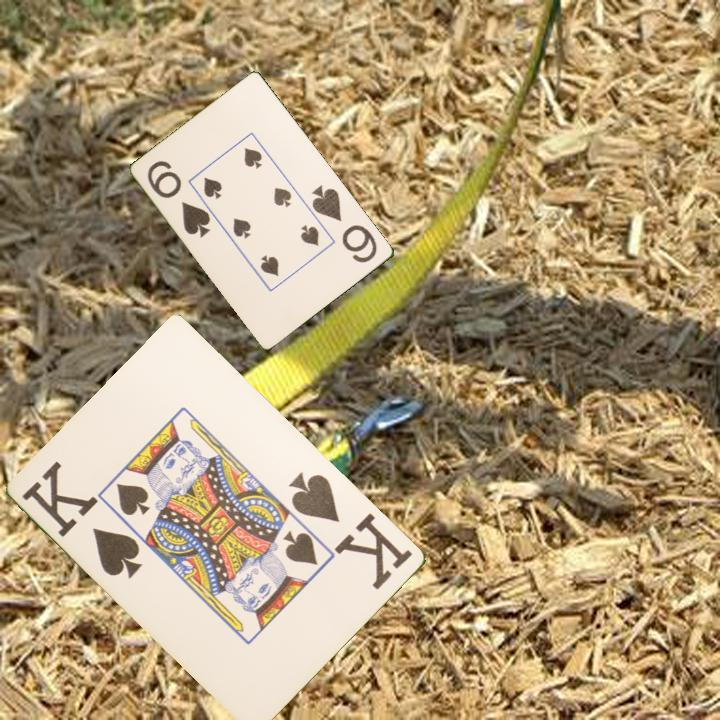6s: (308, 181, 381, 266), (144, 157, 214, 241)
Ks: (286, 467, 416, 592), (18, 457, 146, 582)
